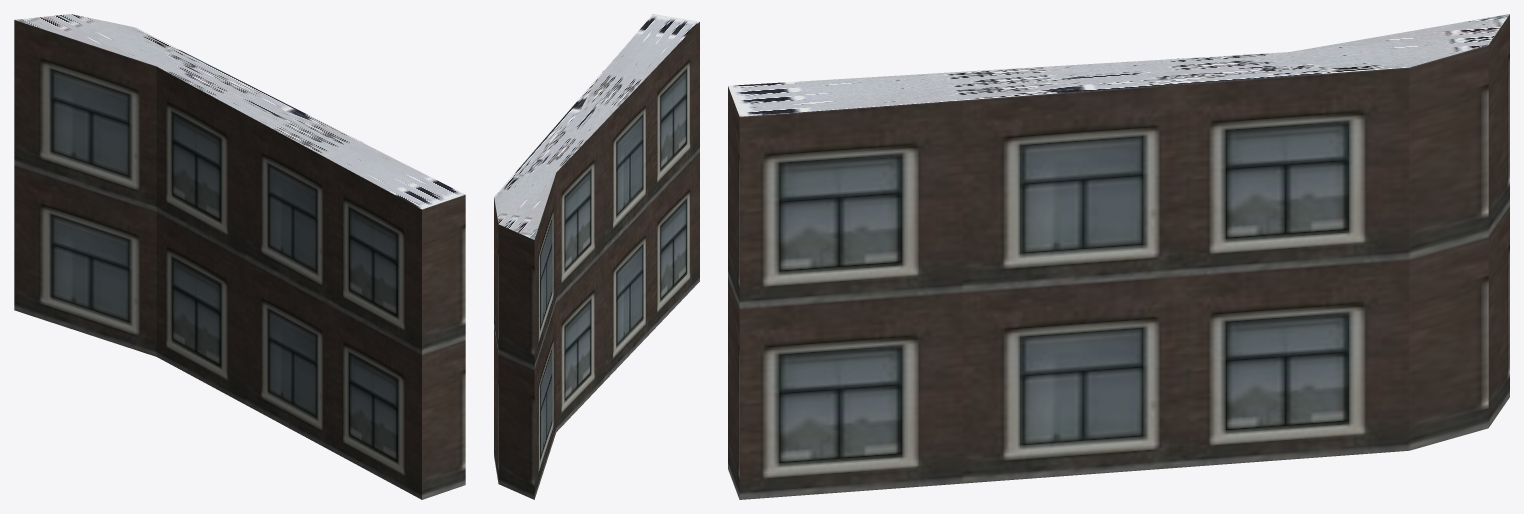
Rendered from ResTex__527.fbx.
3 renders of one model, left to right at view 1: azimuth 30°, elevation 25°; view 2: azimuth 150°, elevation 25°; view 3: azimuth 270°, elevation 25°, orthographic. The views are drawn at different scales.
Visible parts, largest first — view 1: CityEngineMaterial_16_m, CityEngineMaterial_15_m; view 2: CityEngineMaterial_16_m, CityEngineMaterial_15_m; view 3: CityEngineMaterial_16_m, CityEngineMaterial_15_m.
Boxes of the visible parts, x1,y1,x2,y2 form: CityEngineMaterial_16_m: [14, 20, 465, 499]; CityEngineMaterial_15_m: [14, 14, 465, 209]; CityEngineMaterial_16_m: [494, 22, 699, 499]; CityEngineMaterial_15_m: [494, 14, 699, 239]; CityEngineMaterial_16_m: [728, 14, 1509, 499]; CityEngineMaterial_15_m: [728, 14, 1509, 116].
Bounding box in the file's own units: 3.45 × 6 × 11.1.
2 materials, 2 textured.
